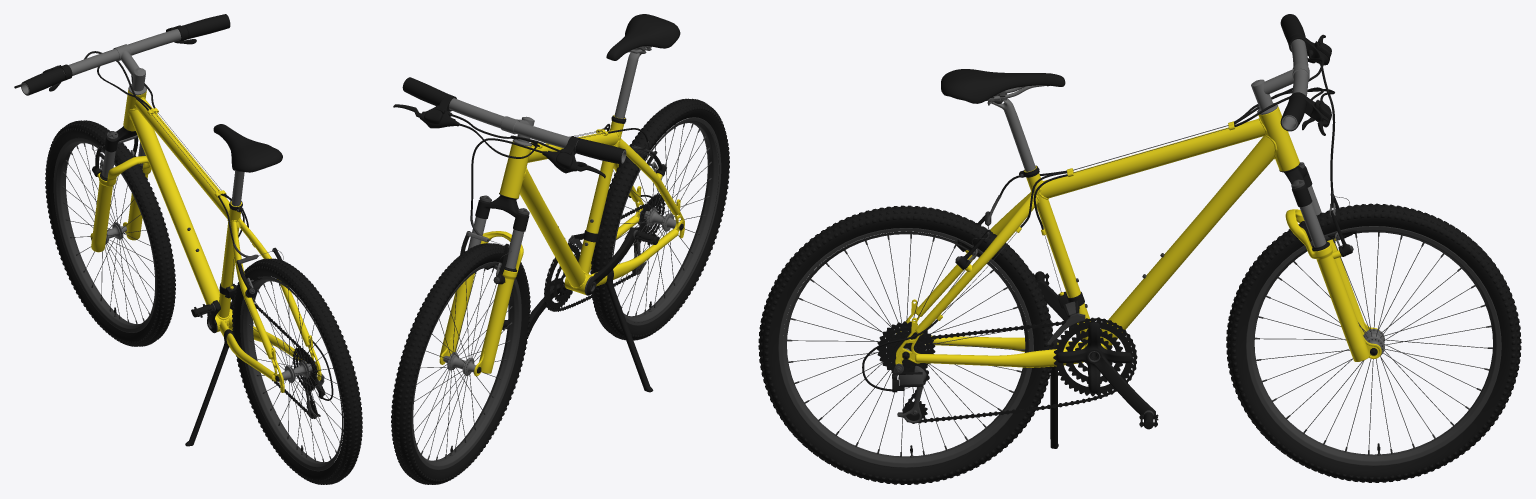
Rendered from _sample.glb.
The picture shows the model from 3 angles, left to right: view 1: azimuth 30°, elevation 25°; view 2: azimuth 150°, elevation 25°; view 3: azimuth 270°, elevation 25°; orthographic projection. The views are drawn at different scales.
Parts seen in each view (by area): view 1: Mountain Bike; view 2: Mountain Bike; view 3: Mountain Bike.
Part boxes in pixels (<box>): Mountain Bike: <box>14,14,362,484</box>; Mountain Bike: <box>391,14,729,484</box>; Mountain Bike: <box>758,14,1521,484</box>.
Size of the model in its own units: 0.707 by 1.09 by 1.82.
